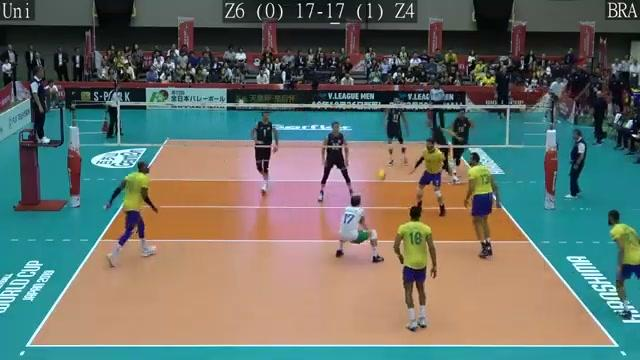ball: (377, 167, 386, 182)
